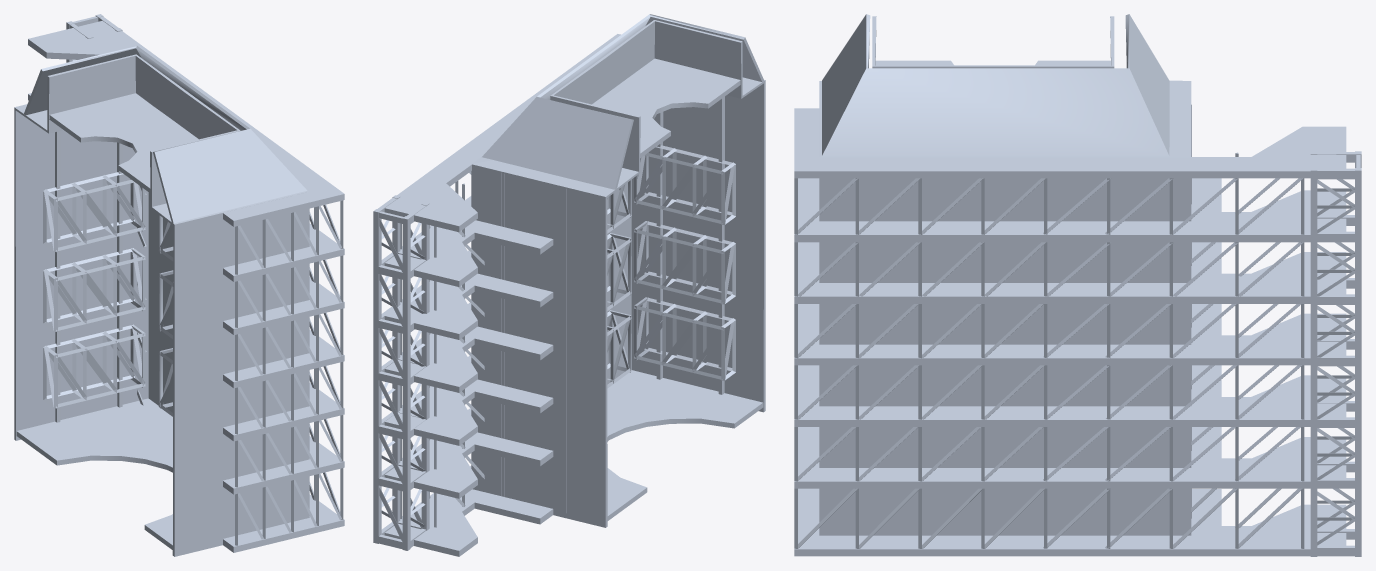
Rendered from FaSheTa-Bi04.FBX.
3 renders of one model, left to right at view 1: azimuth 30°, elevation 25°; view 2: azimuth 150°, elevation 25°; view 3: azimuth 270°, elevation 25°, orthographic. The views are drawn at different scales.
Parts seen in each view (by area): view 1: FaSheTa-Bi04; view 2: FaSheTa-Bi04; view 3: FaSheTa-Bi04.
Part boxes in pixels (x1,y1,x2,y2): FaSheTa-Bi04: [14, 14, 344, 556]; FaSheTa-Bi04: [373, 14, 765, 556]; FaSheTa-Bi04: [794, 14, 1361, 556].
Size of the model in its own units: 50.75 by 118 by 135.
